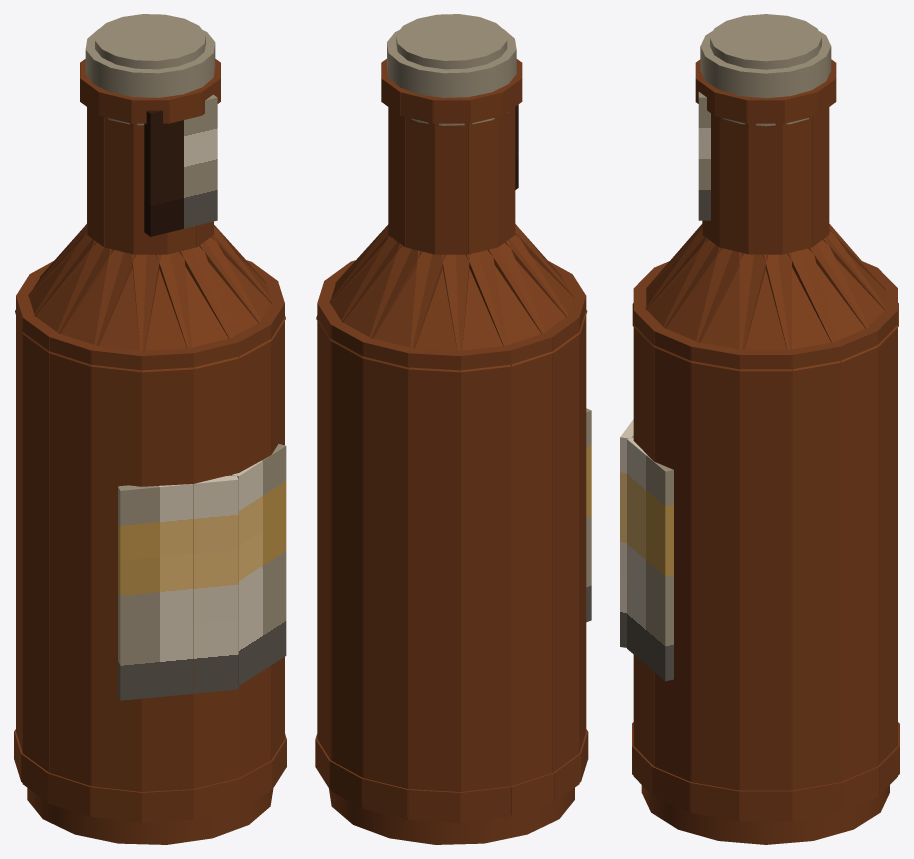
Rendered from CMU3DRMCDrinkAlcoholWhiskeyDrinksExtraCloud.glb.
3 renders of one model, left to right at view 1: azimuth 30°, elevation 25°; view 2: azimuth 150°, elevation 25°; view 3: azimuth 270°, elevation 25°, orthographic.
Parts seen in each view (by area): view 1: source front label tangent 0, continuous hollow body wall 09, continuous hollow body wall 10, continuous hollow body wall 11, continuous hollow body wall 08, continuous hollow body wall 12, source front label tangent 1, source pale neck strip, continuous hollow body wall 13, thick bottle heel, cap top crown, source closure cap (+25 smaller); view 2: continuous hollow body wall 05, continuous hollow body wall 06, continuous hollow body wall 04, continuous hollow body wall 07, continuous hollow body wall 03, continuous hollow body wall 08, continuous hollow body wall 02, thick bottle heel, cap top crown, hollow bottle neck 04, source closure cap, hollow bottle neck 03 (+26 smaller); view 3: continuous hollow body wall 00, continuous hollow body wall 01, continuous hollow body wall 15, continuous hollow body wall 02, continuous hollow body wall 14, source front label tangent 1, continuous hollow body wall 03, thick bottle heel, continuous hollow body wall 13, cap top crown, hollow bottle neck 00, source closure cap (+27 smaller).
Part boxes in pixels (left/top/right/bottom): source front label tangent 0: left=118, top=475, right=238, bottom=700; continuous hollow body wall 09: left=49, top=332, right=93, bottom=816; continuous hollow body wall 10: left=90, top=345, right=144, bottom=822; continuous hollow body wall 11: left=140, top=348, right=194, bottom=822; continuous hollow body wall 08: left=22, top=317, right=56, bottom=803; continuous hollow body wall 12: left=187, top=338, right=239, bottom=819; source front label tangent 1: left=232, top=444, right=286, bottom=685; source pale neck strip: left=144, top=94, right=217, bottom=236; continuous hollow body wall 13: left=230, top=323, right=271, bottom=808; thick bottle heel: left=27, top=788, right=273, bottom=844; cap top crown: left=95, top=14, right=205, bottom=69; source closure cap: left=85, top=29, right=215, bottom=125; continuous hollow body wall 05: left=408, top=348, right=462, bottom=822; continuous hollow body wall 06: left=460, top=345, right=511, bottom=822; continuous hollow body wall 04: left=362, top=339, right=414, bottom=819; continuous hollow body wall 07: left=508, top=332, right=553, bottom=816; continuous hollow body wall 03: left=330, top=323, right=373, bottom=808; continuous hollow body wall 08: left=545, top=317, right=579, bottom=803; continuous hollow body wall 02: left=317, top=301, right=343, bottom=790; thick bottle heel: left=329, top=788, right=574, bottom=844; cap top crown: left=396, top=14, right=507, bottom=69; hollow bottle neck 04: left=435, top=123, right=468, bottom=254; source closure cap: left=387, top=29, right=516, bottom=125; hollow bottle neck 03: left=405, top=117, right=434, bottom=254; continuous hollow body wall 00: left=739, top=349, right=792, bottom=821; continuous hollow body wall 01: left=787, top=341, right=840, bottom=821; continuous hollow body wall 15: left=690, top=342, right=744, bottom=821; continuous hollow body wall 02: left=832, top=329, right=877, bottom=812; continuous hollow body wall 14: left=653, top=329, right=700, bottom=812; source front label tangent 1: left=627, top=437, right=673, bottom=681; continuous hollow body wall 03: left=865, top=308, right=897, bottom=796; thick bottle heel: left=641, top=785, right=889, bottom=844; continuous hollow body wall 13: left=633, top=308, right=665, bottom=796; cap top crown: left=710, top=14, right=821, bottom=69; hollow bottle neck 00: left=748, top=123, right=782, bottom=254; source closure cap: left=700, top=31, right=831, bottom=126.
Bounding box in the file's own units: 0.2172 × 0.675 × 0.2268.
5 materials, 3 textured.
